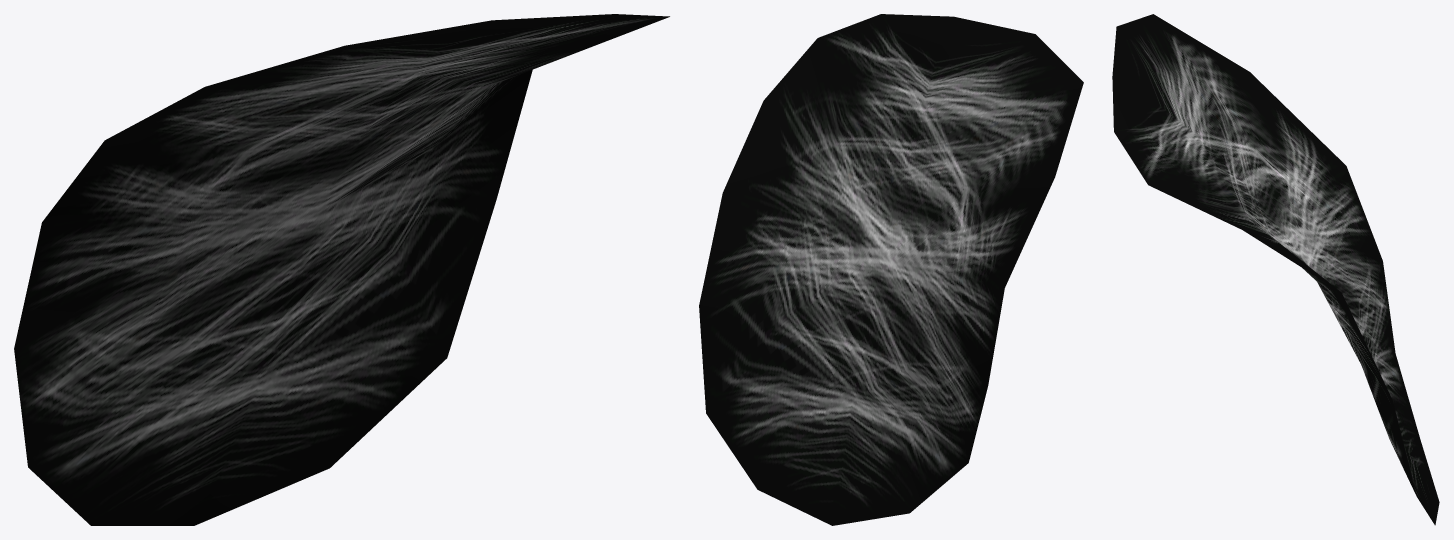
File: SWORDLIGHT20_PS-AREA01_CORNERWEB26.fbx
The picture shows the model from 3 angles, left to right: view 1: azimuth 30°, elevation 25°; view 2: azimuth 150°, elevation 25°; view 3: azimuth 270°, elevation 25°; orthographic projection. The views are drawn at different scales.
Parts seen in each view (by area): view 1: SWORDLIGHT20_PS-AREA01_CORNERWEB26; view 2: SWORDLIGHT20_PS-AREA01_CORNERWEB26; view 3: SWORDLIGHT20_PS-AREA01_CORNERWEB26.
Boxes of the visible parts, left/top/right/bottom form: SWORDLIGHT20_PS-AREA01_CORNERWEB26: left=14, top=14, right=669, bottom=525; SWORDLIGHT20_PS-AREA01_CORNERWEB26: left=699, top=14, right=1083, bottom=525; SWORDLIGHT20_PS-AREA01_CORNERWEB26: left=1112, top=14, right=1439, bottom=525.
Size of the model in its own units: 70894 by 91737 by 61243.
1 material, 1 textured.
